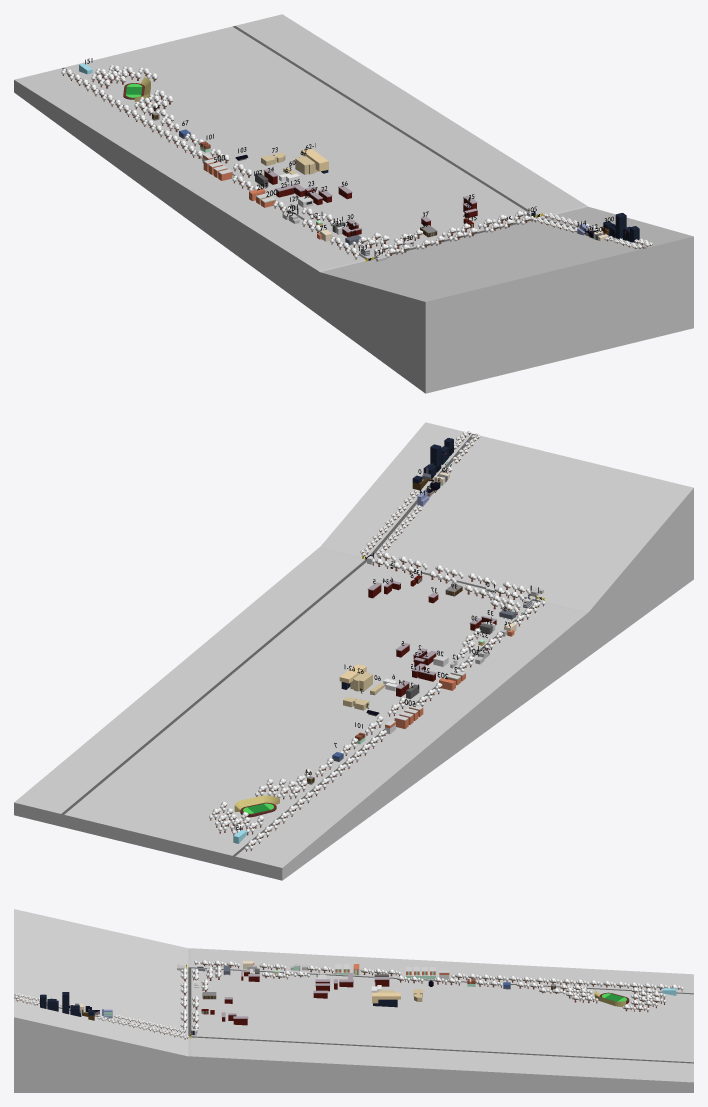
Rendered from SNU.fbx.
The picture shows the model from 3 angles, top to bottom: view 1: azimuth 30°, elevation 25°; view 2: azimuth 150°, elevation 25°; view 3: azimuth 270°, elevation 25°; orthographic projection. The views are drawn at different scales.
Parts seen in each view (by area): view 1: 00_Terrain, Tree_002; view 2: 00_Terrain, Tree_002, PlayGround; view 3: 00_Terrain, Tree_002, Bldg_062-1, Bldg_500, PlayGround, Tree_001.007.
Part boxes in pixels (x1,y1,x2,y2): 00_Terrain: [14, 14, 693, 393]; Tree_002: [61, 68, 258, 191]; 00_Terrain: [14, 422, 693, 880]; Tree_002: [244, 682, 442, 851]; PlayGround: [234, 795, 279, 817]; 00_Terrain: [14, 909, 693, 1092]; Tree_002: [360, 968, 683, 991]; Bldg_062-1: [372, 992, 400, 1007]; Bldg_500: [406, 967, 449, 979]; PlayGround: [594, 990, 629, 1006]; Tree_001.007: [97, 1016, 189, 1039].
Bounding box in the file's own units: 61597 × 21985 × 163603.
